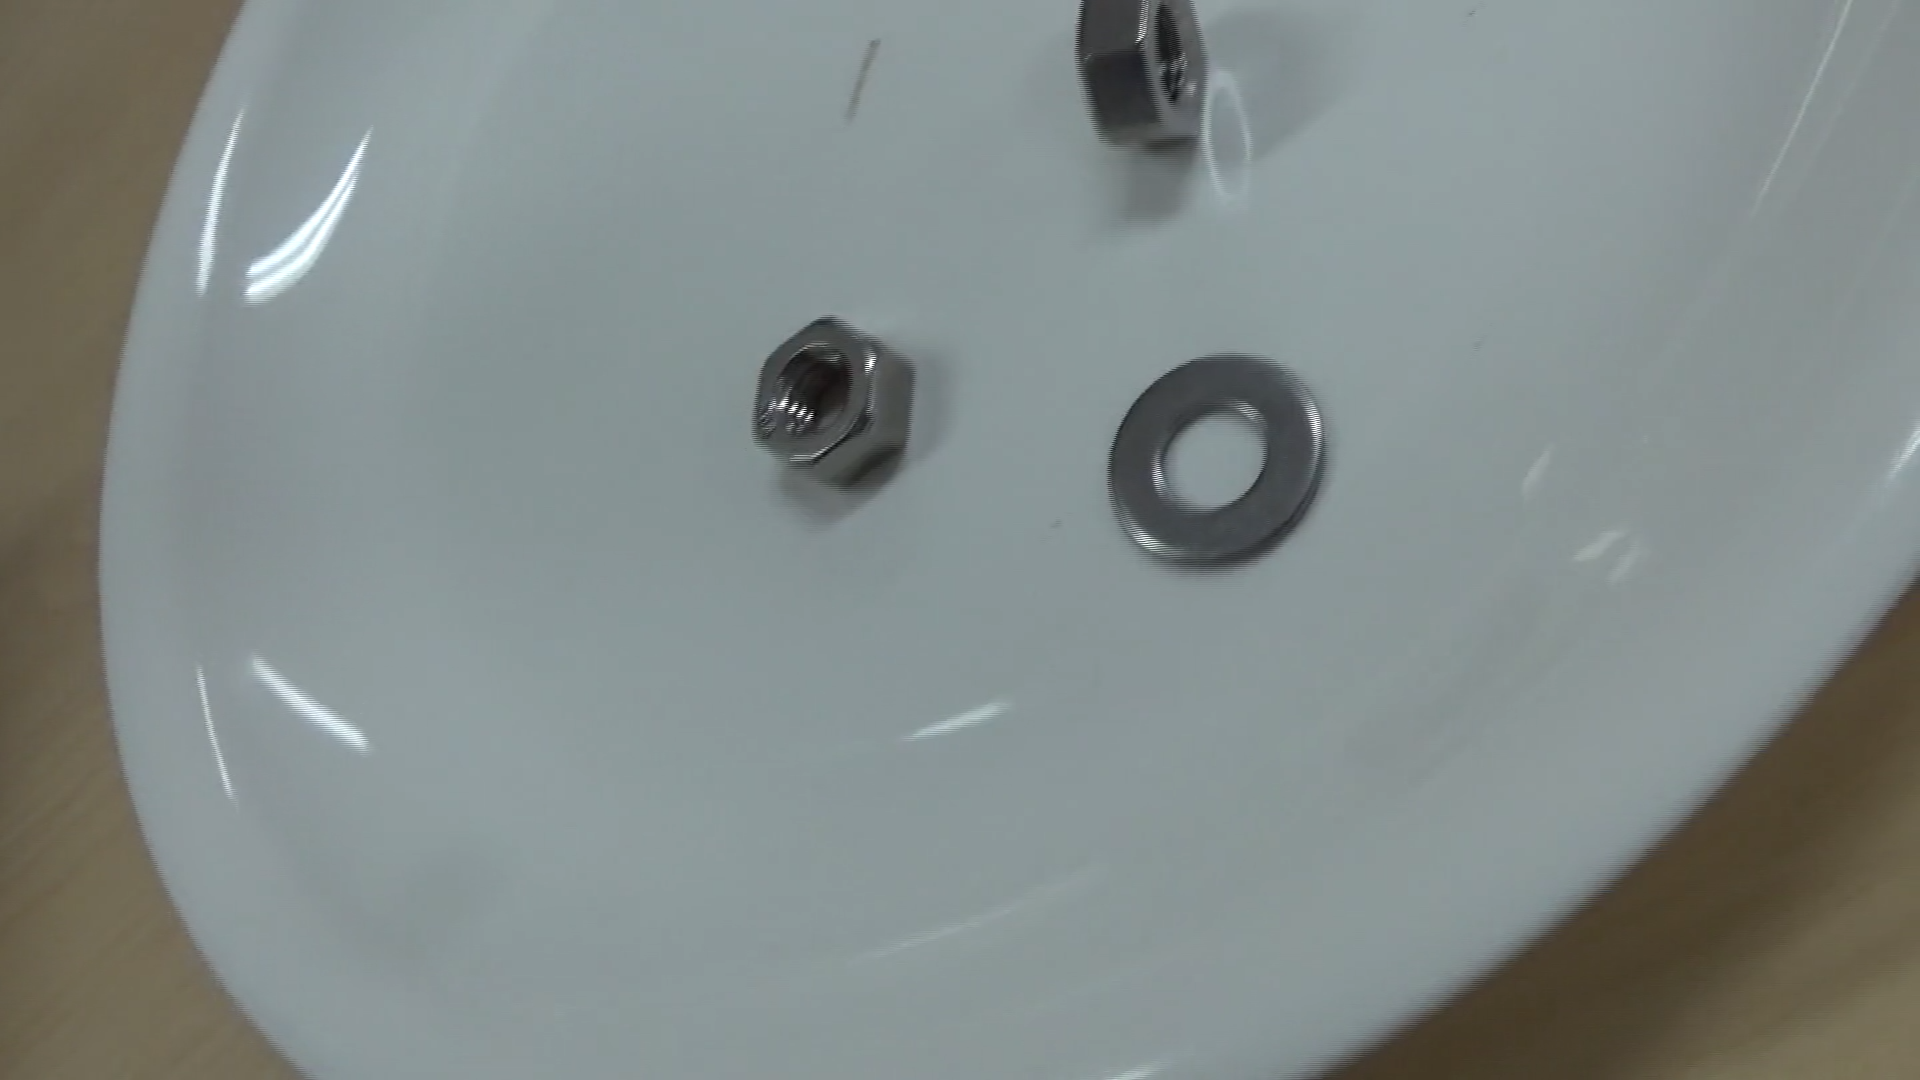nut: (725, 289, 935, 518), (1029, 0, 1238, 174)
washer: (1079, 322, 1349, 604)
